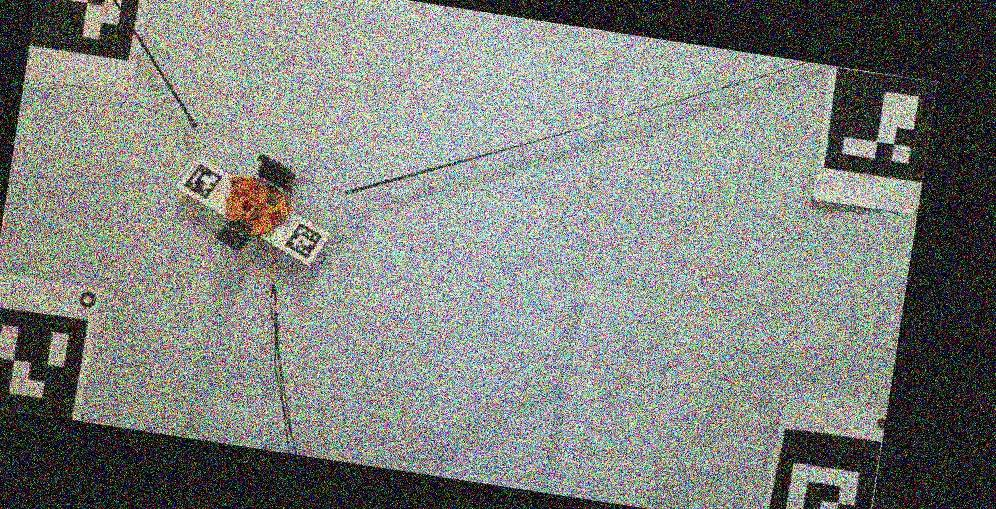robot: (215, 154, 297, 252)
